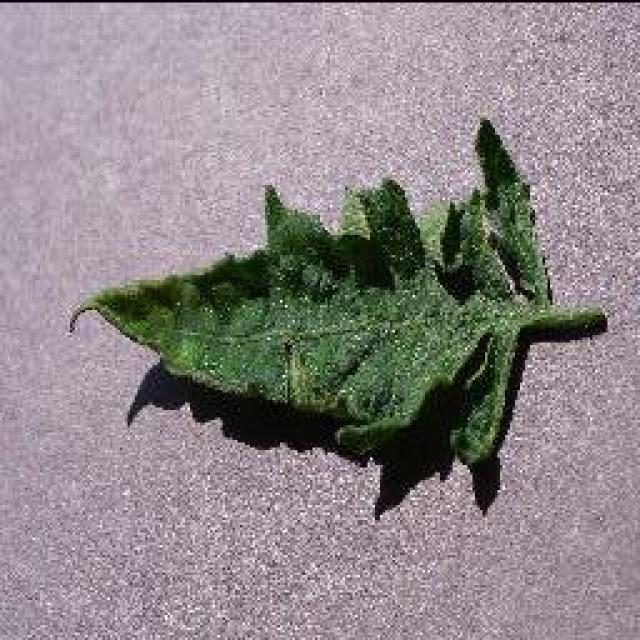Tomato___Tomato_mosaic_virus: (70, 120, 605, 462)
